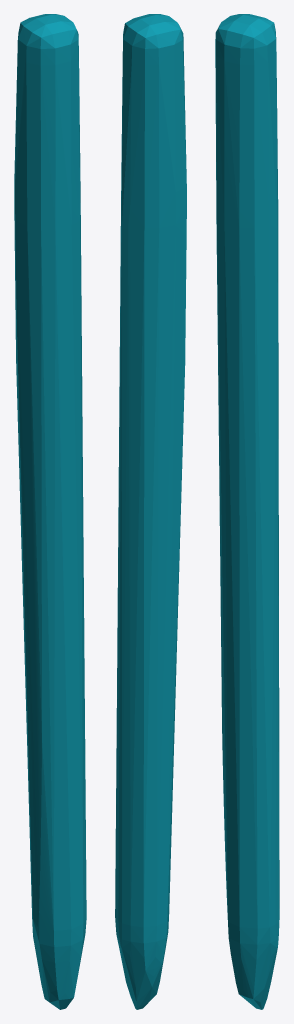
File: coacd_merged.obj
The picture shows the model from 3 angles, left to right: view 1: azimuth 30°, elevation 25°; view 2: azimuth 210°, elevation 25°; view 3: azimuth 330°, elevation 25°; orthographic projection.
Visible parts, largest first — view 1: geometry_0; view 2: geometry_0; view 3: geometry_0.
Part boxes in pixels (x1=…): geometry_0: x1=14, y1=14, x2=86, y2=1009; geometry_0: x1=115, y1=14, x2=186, y2=1009; geometry_0: x1=215, y1=14, x2=279, y2=1009.
Size of the model in its own units: 0.0119 by 0.1854 by 0.0103.
